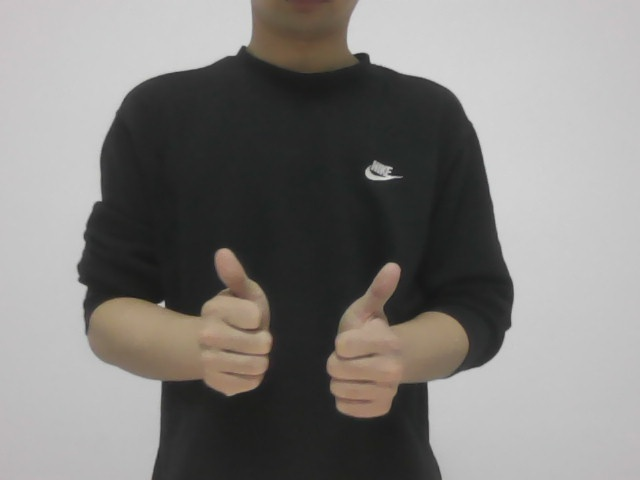friend: (191, 249, 412, 416)
